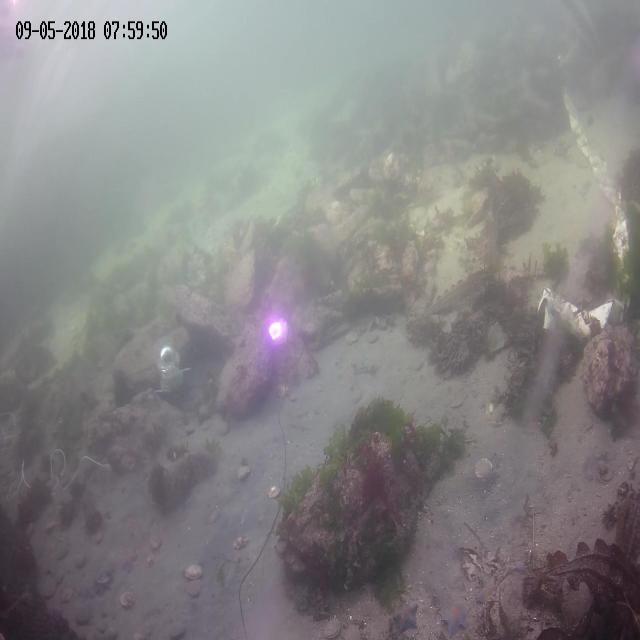scallop: (36, 574, 58, 598), (474, 457, 494, 482), (184, 561, 206, 582), (322, 615, 340, 640), (120, 588, 136, 612), (74, 604, 94, 623), (344, 619, 361, 640), (266, 481, 282, 502), (232, 531, 248, 551), (344, 324, 358, 346), (95, 570, 113, 585), (57, 586, 73, 602), (236, 464, 252, 480)
starfish: (391, 600, 420, 633), (438, 602, 466, 634), (478, 577, 500, 611), (120, 548, 136, 572)
